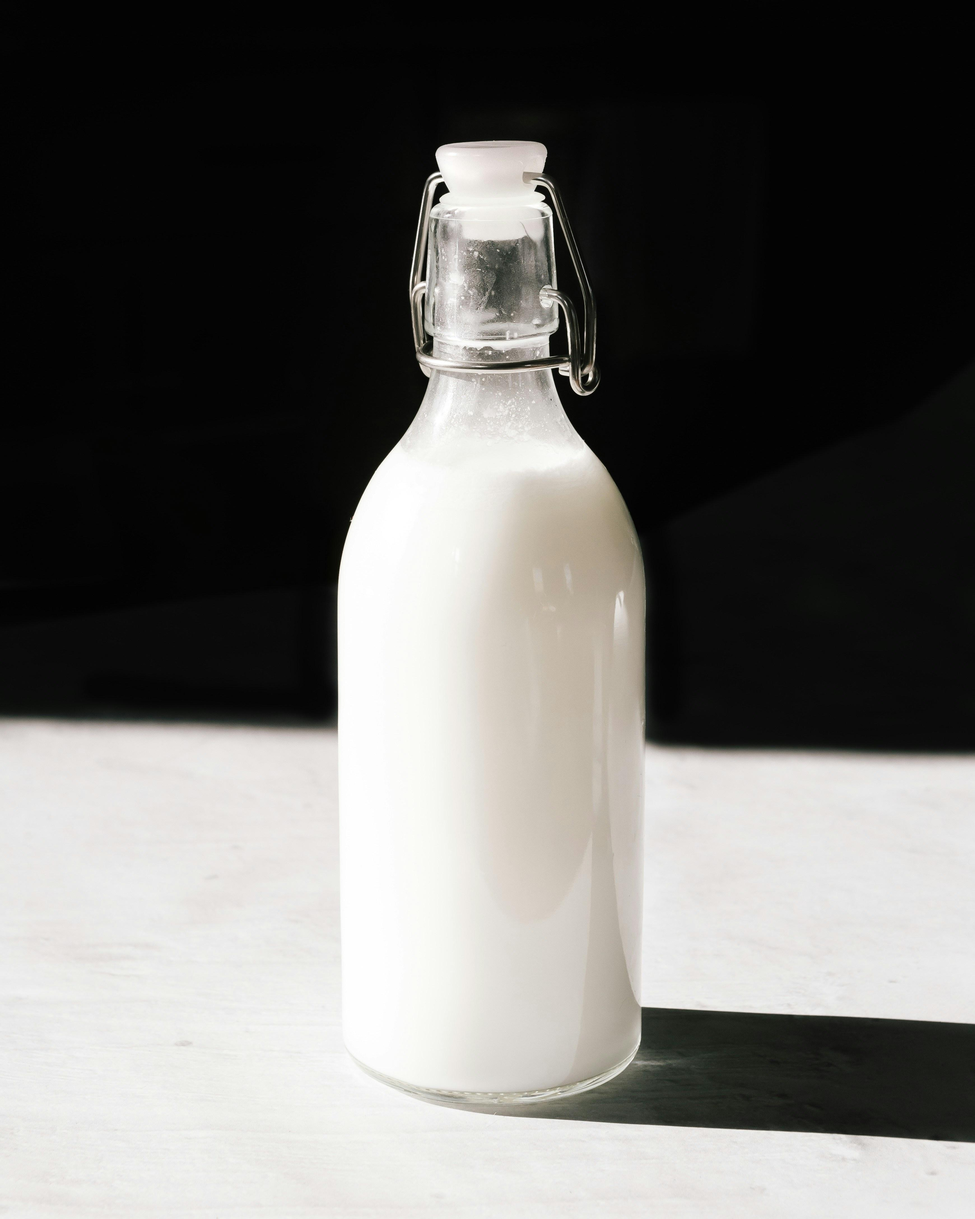Bottle-Detection: (232, 90, 776, 1171)
